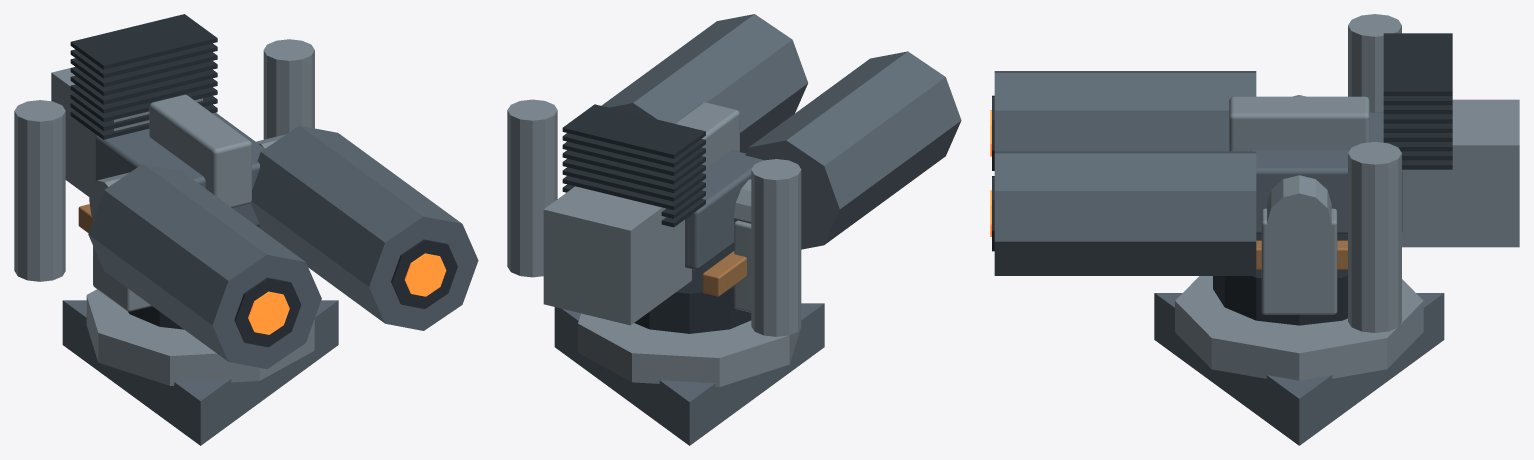
File: kiln_t3_d0.glb
3 renders of one model, left to right at view 1: azimuth 30°, elevation 25°; view 2: azimuth 150°, elevation 25°; view 3: azimuth 270°, elevation 25°, orthographic. The views are drawn at different scales.
Visible parts, largest first — view 1: RECOIL_ARMOR_GEOMETRY, BASE_ARMOR_GEOMETRY, RECOIL_SIGNAL_GEOMETRY, YAW_ARMOR_GEOMETRY; view 2: RECOIL_ARMOR_GEOMETRY, BASE_ARMOR_GEOMETRY, YAW_ARMOR_GEOMETRY; view 3: RECOIL_ARMOR_GEOMETRY, BASE_ARMOR_GEOMETRY, YAW_ARMOR_GEOMETRY.
Part boxes in pixels (<box>): RECOIL_ARMOR_GEOMETRY: <box>14,14,478,368</box>; BASE_ARMOR_GEOMETRY: <box>62,289,338,445</box>; RECOIL_SIGNAL_GEOMETRY: <box>248,253,446,334</box>; YAW_ARMOR_GEOMETRY: <box>93,219,183,329</box>; RECOIL_ARMOR_GEOMETRY: <box>507,14,961,336</box>; BASE_ARMOR_GEOMETRY: <box>554,303,824,445</box>; YAW_ARMOR_GEOMETRY: <box>634,220,751,333</box>; RECOIL_ARMOR_GEOMETRY: <box>992,14,1519,332</box>; BASE_ARMOR_GEOMETRY: <box>1154,276,1444,445</box>; YAW_ARMOR_GEOMETRY: <box>1213,208,1347,325</box>.
Size of the model in its own units: 1.65 by 1.6 by 2.45.
